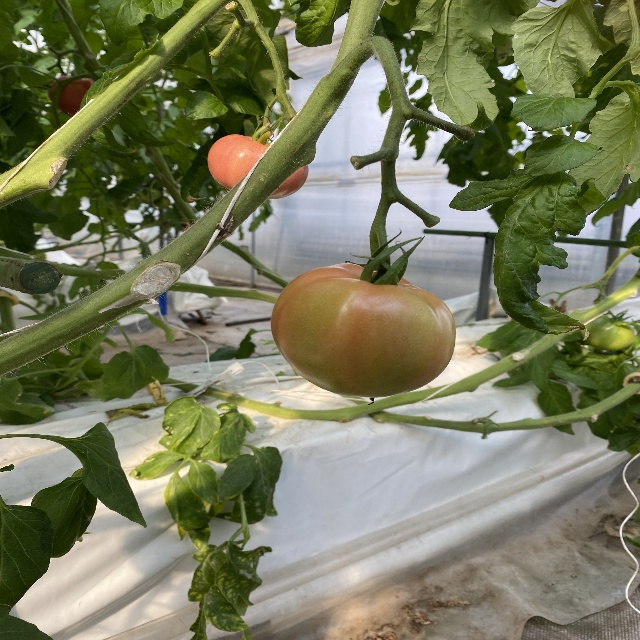b_fully_ripened: (48, 76, 94, 116)
b_half_ripened: (270, 262, 456, 398), (207, 134, 310, 199)
